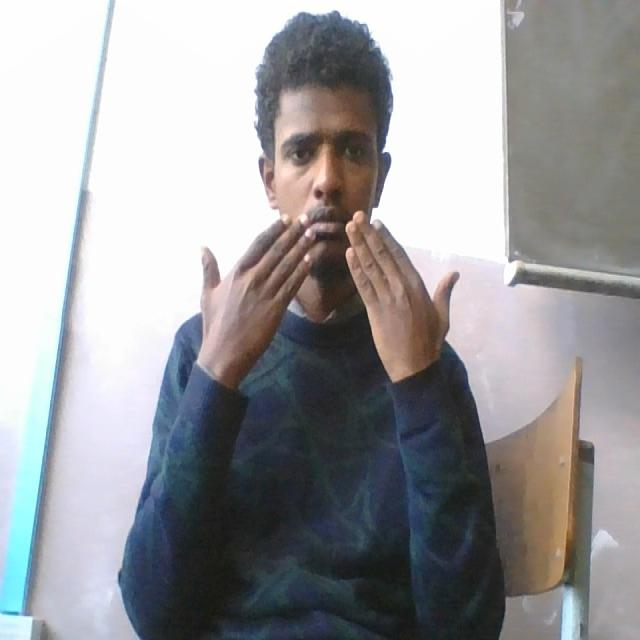ymesgen: (188, 206, 466, 377)
